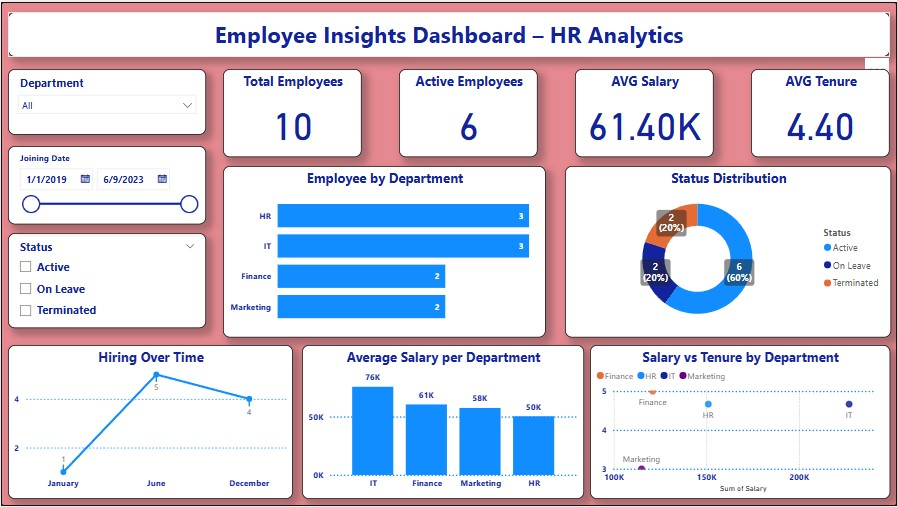

The dashboard page shown, as its layout file describes it:
{"tool":"powerbi","page":{"name":"Page 1","canvas":[1280,720],"ordinal":0},"visuals":[{"type":"textbox","box":[9.9,14.2,1260,63.8],"z":0},{"type":"card","title":"Total Employees","fields":{"Values":["Count(simple_employee_dataset.EmployeeID)"]},"box":[317.5,96.4,198.4,126.1],"z":1000},{"type":"card","title":"Active Employees","fields":{"Values":["simple_employee_dataset.Active Employees"]},"box":[568.8,96.4,198.4,126.1],"z":2000},{"type":"card","title":"AVG Salary","fields":{"Values":["simple_employee_dataset.AVG Salary"]},"box":[820.2,96.4,198.4,126.1],"z":3000},{"type":"card","title":"AVG Tenure","fields":{"Values":["simple_employee_dataset.AVG Tenure"]},"box":[1071.5,96.4,198.4,126.1],"z":4000},{"type":"slicer","fields":{"Values":["simple_employee_dataset.Department"]},"box":[9.9,96.4,283.5,93.5],"z":5000},{"type":"slicer","fields":{"Values":["simple_employee_dataset.Status"]},"box":[9.9,330.2,283.5,136.1],"z":6000},{"type":"slicer","fields":{"Values":["simple_employee_dataset.JoiningDate"]},"box":[9.9,205.5,283.5,112],"z":7000},{"type":"clusteredBarChart","title":"Employee by Department","fields":{"Y":["Count(simple_employee_dataset.EmployeeID)"],"Category":["simple_employee_dataset.Department"]},"box":[317.5,233.9,460.6,245.2],"z":8000},{"type":"donutChart","title":"Status Distribution","fields":{"Y":["Count(simple_employee_dataset.EmployeeID)"],"Category":["simple_employee_dataset.Status"]},"box":[805,233.9,466.3,245.2],"z":9000},{"type":"lineChart","title":"Hiring Over Time","fields":{"Y":["CountNonNull(simple_employee_dataset.EmployeeID)"],"Category":["simple_employee_dataset.JoiningDate.Variation.Date Hierarchy.Month"]},"box":[9.9,490.4,406.8,219.7],"z":10000},{"type":"columnChart","title":"Average Salary per Department","fields":{"Category":["simple_employee_dataset.Department"],"Y":["simple_employee_dataset.AVG Salary"]},"box":[429.4,490.4,402.5,219.7],"z":11000},{"type":"scatterChart","title":"Salary vs Tenure by Department","fields":{"Series":["simple_employee_dataset.Department"],"X":["Sum(simple_employee_dataset.Salary)"],"Y":["simple_employee_dataset.AVG Tenure"]},"box":[841.4,490,428.6,220],"z":11001}]}

Visuals, with their boxes in screenshot pixels (x1, y1, x2, y2), scaled from the page's 1280x720 canvas onto the 897x507 screenshot:
textbox: <box>7,10,890,55</box>
"Total Employees" card: <box>222,68,362,157</box>
"Active Employees" card: <box>399,68,538,157</box>
"AVG Salary" card: <box>575,68,714,157</box>
"AVG Tenure" card: <box>751,68,890,157</box>
slicer - simple_employee_dataset.Department: <box>7,68,206,134</box>
slicer - simple_employee_dataset.Status: <box>7,233,206,328</box>
slicer - simple_employee_dataset.JoiningDate: <box>7,145,206,224</box>
"Employee by Department" clusteredBarChart: <box>222,165,545,337</box>
"Status Distribution" donutChart: <box>564,165,891,337</box>
"Hiring Over Time" lineChart: <box>7,345,292,500</box>
"Average Salary per Department" columnChart: <box>301,345,583,500</box>
"Salary vs Tenure by Department" scatterChart: <box>590,345,890,500</box>
